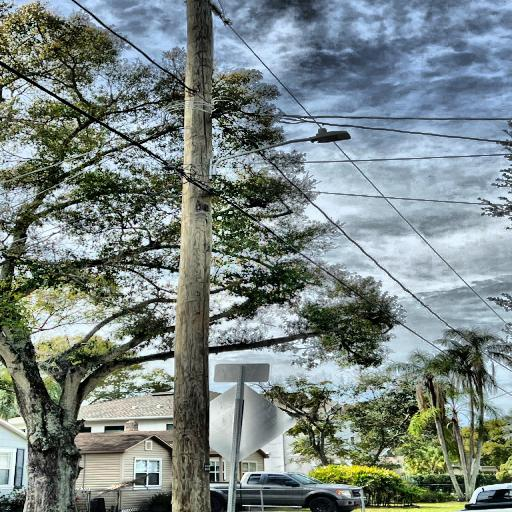pole: (162, 0, 226, 512)
street light: (206, 126, 352, 182)
